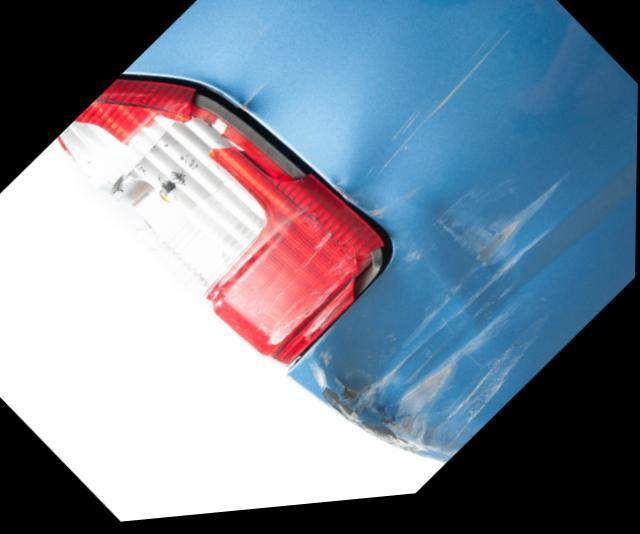dent: (313, 85, 554, 461), (198, 43, 299, 124)
lamp broken: (57, 76, 389, 374)
